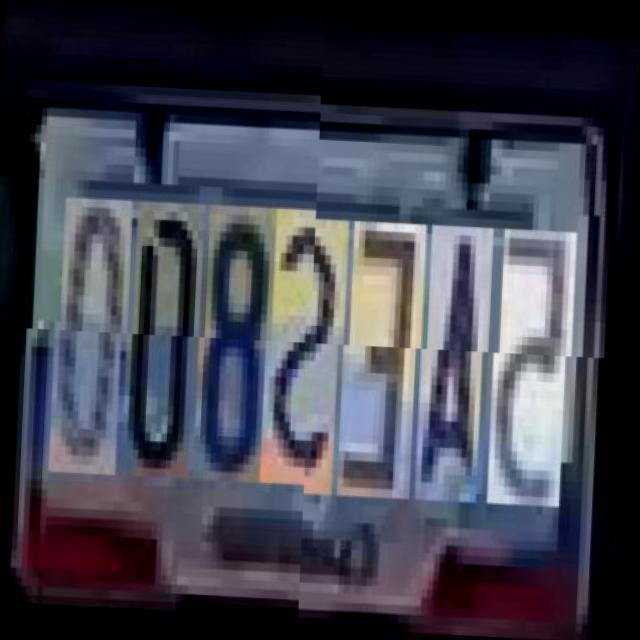0: (125, 208, 201, 485)
5: (491, 223, 573, 500)
8: (197, 211, 272, 488)
a: (419, 220, 490, 497)
e: (341, 217, 423, 494)
o: (53, 205, 128, 482)
s: (264, 214, 346, 491)
